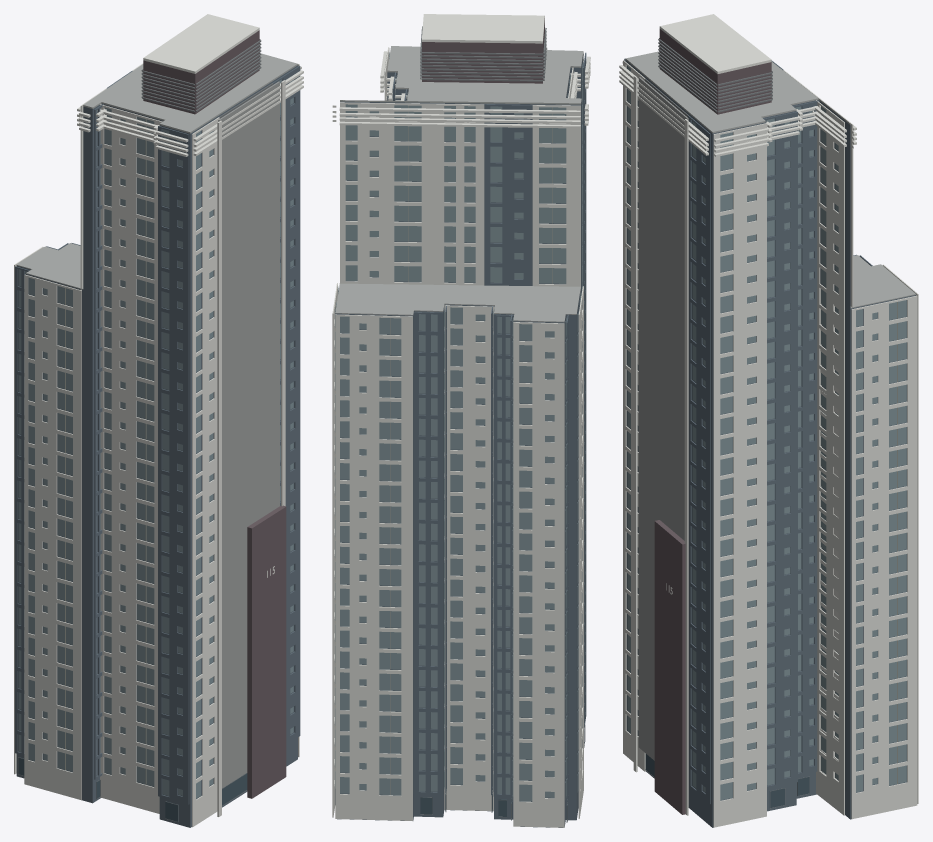
File: bespoke-raemian-onebailey-115.glb
3 views of the same model, side by side, from view 1: azimuth 30°, elevation 25°; view 2: azimuth 150°, elevation 25°; view 3: azimuth 270°, elevation 25° (orthographic).
Parts seen in each view (by area): view 1: 115_pale_bays_navy_shafts001_4, 115_pale_bays_navy_shafts001, 115_pale_bays_navy_shafts001_3, 115_pale_bays_navy_shafts001_6, 115_editable_massing001, 115_pale_bays_navy_shafts001_7, 115_glass_roof_crown001, 115_glass_roof_crown001_2, 115_editable_massing001_1, 115_glass_roof_crown001_1, 115_pale_bays_navy_shafts001_2, 115_pale_bays_navy_shafts001_1; view 2: 115_pale_bays_navy_shafts001_4, 115_pale_bays_navy_shafts001, 115_pale_bays_navy_shafts001_3, 115_editable_massing001, 115_glass_roof_crown001_2, 115_glass_roof_crown001, 115_editable_massing001_1, 115_glass_roof_crown001_1, 115_pale_bays_navy_shafts001_2, 115_pale_bays_navy_shafts001_1; view 3: 115_pale_bays_navy_shafts001_4, 115_pale_bays_navy_shafts001_3, 115_pale_bays_navy_shafts001, 115_pale_bays_navy_shafts001_6, 115_editable_massing001, 115_pale_bays_navy_shafts001_7, 115_glass_roof_crown001, 115_glass_roof_crown001_2, 115_editable_massing001_1, 115_glass_roof_crown001_1, 115_pale_bays_navy_shafts001_1.
Boxes of the visible parts, x1,y1,x2,y2 form: 115_pale_bays_navy_shafts001_4: (14, 63, 299, 827); 115_pale_bays_navy_shafts001: (18, 79, 293, 798); 115_pale_bays_navy_shafts001_3: (15, 65, 300, 804); 115_pale_bays_navy_shafts001_6: (218, 81, 279, 788); 115_editable_massing001: (16, 65, 297, 827); 115_pale_bays_navy_shafts001_7: (247, 505, 286, 798); 115_glass_roof_crown001: (77, 14, 303, 156); 115_glass_roof_crown001_2: (16, 53, 297, 289); 115_editable_massing001_1: (143, 30, 259, 114); 115_glass_roof_crown001_1: (141, 39, 261, 112); 115_pale_bays_navy_shafts001_2: (65, 119, 146, 784); 115_pale_bays_navy_shafts001_1: (18, 757, 247, 821); 115_pale_bays_navy_shafts001_4: (332, 47, 583, 827); 115_pale_bays_navy_shafts001: (335, 52, 583, 801); 115_pale_bays_navy_shafts001_3: (392, 52, 586, 803); 115_editable_massing001: (335, 54, 583, 827); 115_glass_roof_crown001_2: (335, 46, 583, 322); 115_glass_roof_crown001: (332, 14, 590, 128); 115_editable_massing001_1: (422, 18, 544, 83); 115_glass_roof_crown001_1: (420, 26, 546, 81); 115_pale_bays_navy_shafts001_2: (335, 78, 581, 794); 115_pale_bays_navy_shafts001_1: (335, 730, 584, 822); 115_pale_bays_navy_shafts001_4: (623, 60, 918, 827); 115_pale_bays_navy_shafts001_3: (624, 58, 872, 803); 115_pale_bays_navy_shafts001: (627, 66, 906, 800); 115_pale_bays_navy_shafts001_6: (638, 77, 688, 760); 115_editable_massing001: (625, 60, 915, 827); 115_pale_bays_navy_shafts001_7: (654, 520, 685, 814); 115_glass_roof_crown001: (619, 14, 856, 156); 115_glass_roof_crown001_2: (625, 51, 915, 308); 115_editable_massing001_1: (659, 29, 771, 114); 115_glass_roof_crown001_1: (658, 38, 772, 112); 115_pale_bays_navy_shafts001_1: (645, 753, 809, 807).
Size of the model in its own units: 35.86 by 106 by 39.13.
